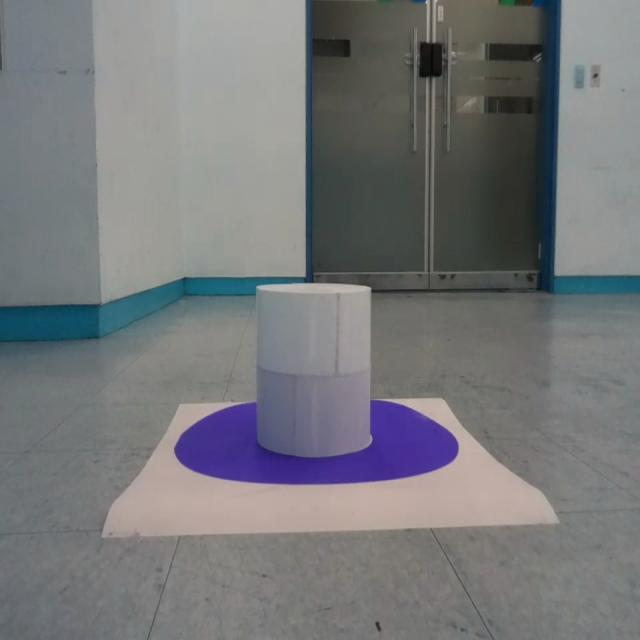cylinder: (255, 282, 373, 458)
